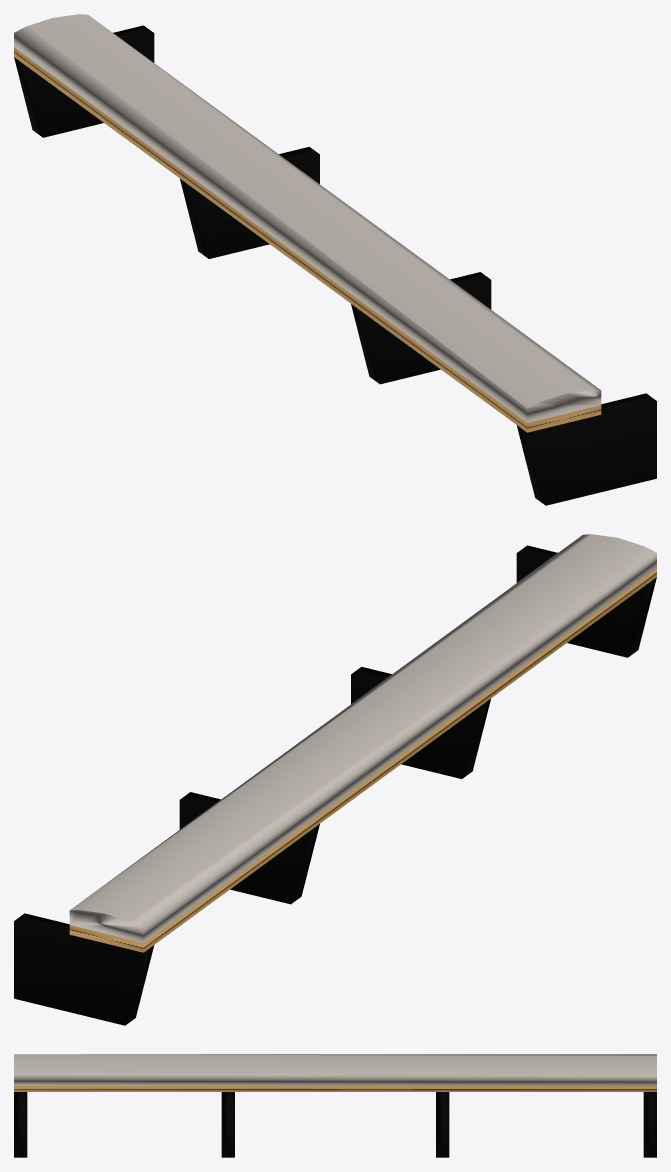
The model's file is church kneeler.fbx.
3 renders of one model, top to bottom at view 1: azimuth 30°, elevation 25°; view 2: azimuth 150°, elevation 25°; view 3: azimuth 270°, elevation 25°, orthographic. The views are drawn at different scales.
Parts seen in each view (by area): view 1: 2:1, 3:1, 1:1, 4:1, 6:1, 5:1; view 2: 2:1, 6:1, 1:1, 5:1, 3:1, 4:1; view 3: 2:1, 1:1, 3:1, 4:1, 5:1, 6:1.
Part boxes in pixels (box(x1,y1,x2,y2)): 2:1: box(14, 14, 601, 422); 3:1: box(516, 393, 656, 505); 1:1: box(14, 47, 601, 432); 4:1: box(351, 272, 491, 384); 6:1: box(14, 25, 154, 137); 5:1: box(180, 146, 319, 258); 2:1: box(69, 534, 656, 942); 6:1: box(14, 913, 154, 1025); 1:1: box(69, 567, 656, 952); 5:1: box(179, 792, 319, 904); 3:1: box(516, 545, 656, 657); 4:1: box(351, 666, 490, 778); 2:1: box(14, 1054, 656, 1085); 1:1: box(14, 1086, 656, 1091); 3:1: box(14, 1092, 27, 1157); 4:1: box(221, 1092, 234, 1157); 5:1: box(436, 1092, 449, 1157); 6:1: box(643, 1092, 656, 1157).
Size of the model in its own units: 0.4516 by 0.3568 by 3.1.
